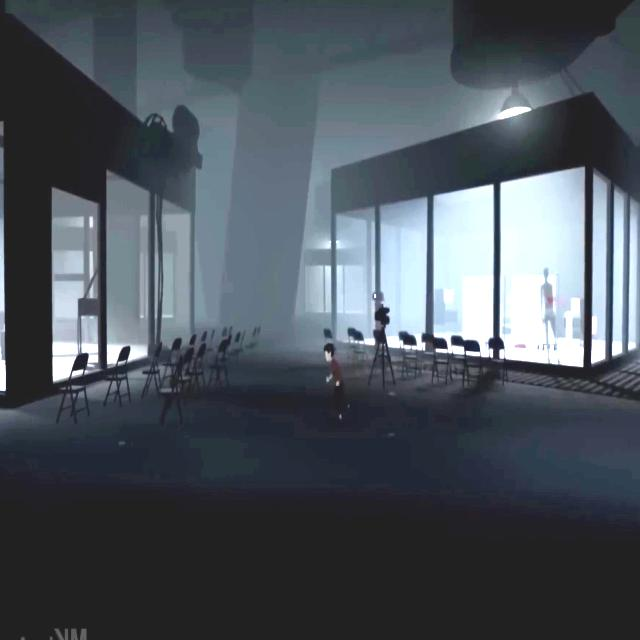boy: (324, 343, 350, 420)
